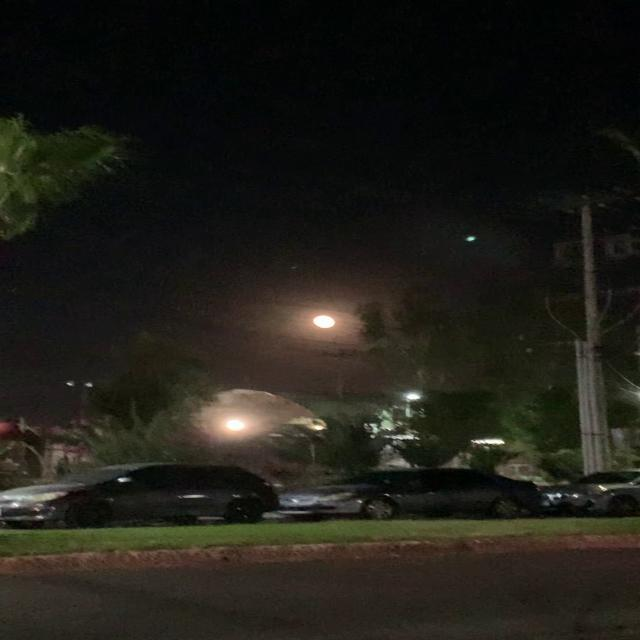moon: (312, 314, 336, 328)
